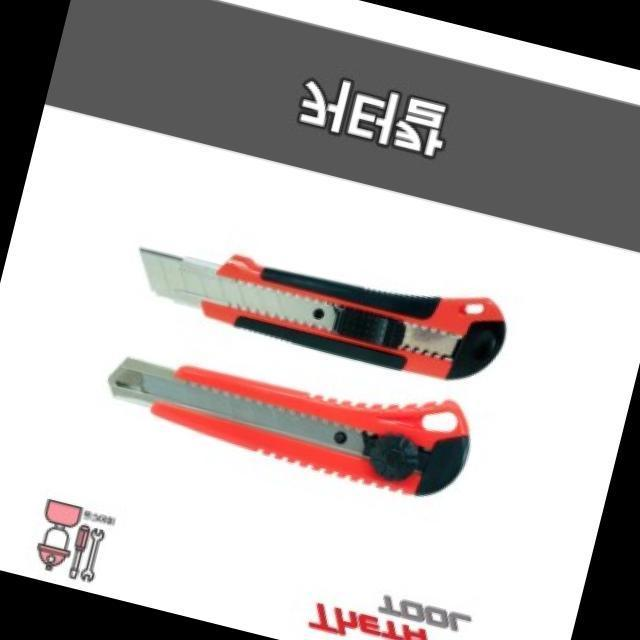cutter: (113, 196, 536, 419), (82, 308, 492, 522)
